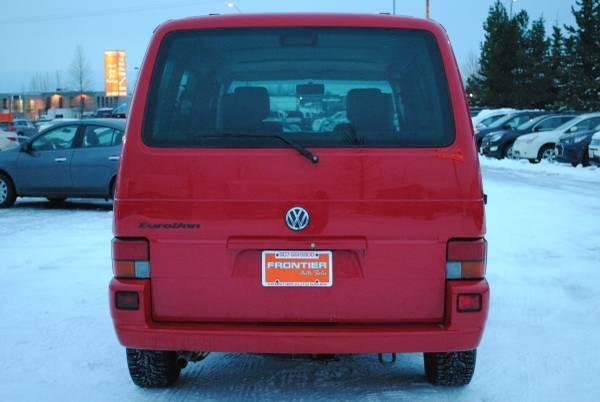Left_Taillight: (112, 237, 149, 280)
Rear_Bumper: (108, 275, 489, 353)
Rear_Windshield: (145, 24, 459, 146)
Right_Taillight: (445, 237, 487, 281)
Roof: (124, 13, 477, 152)
Tailgate: (112, 147, 485, 322)
